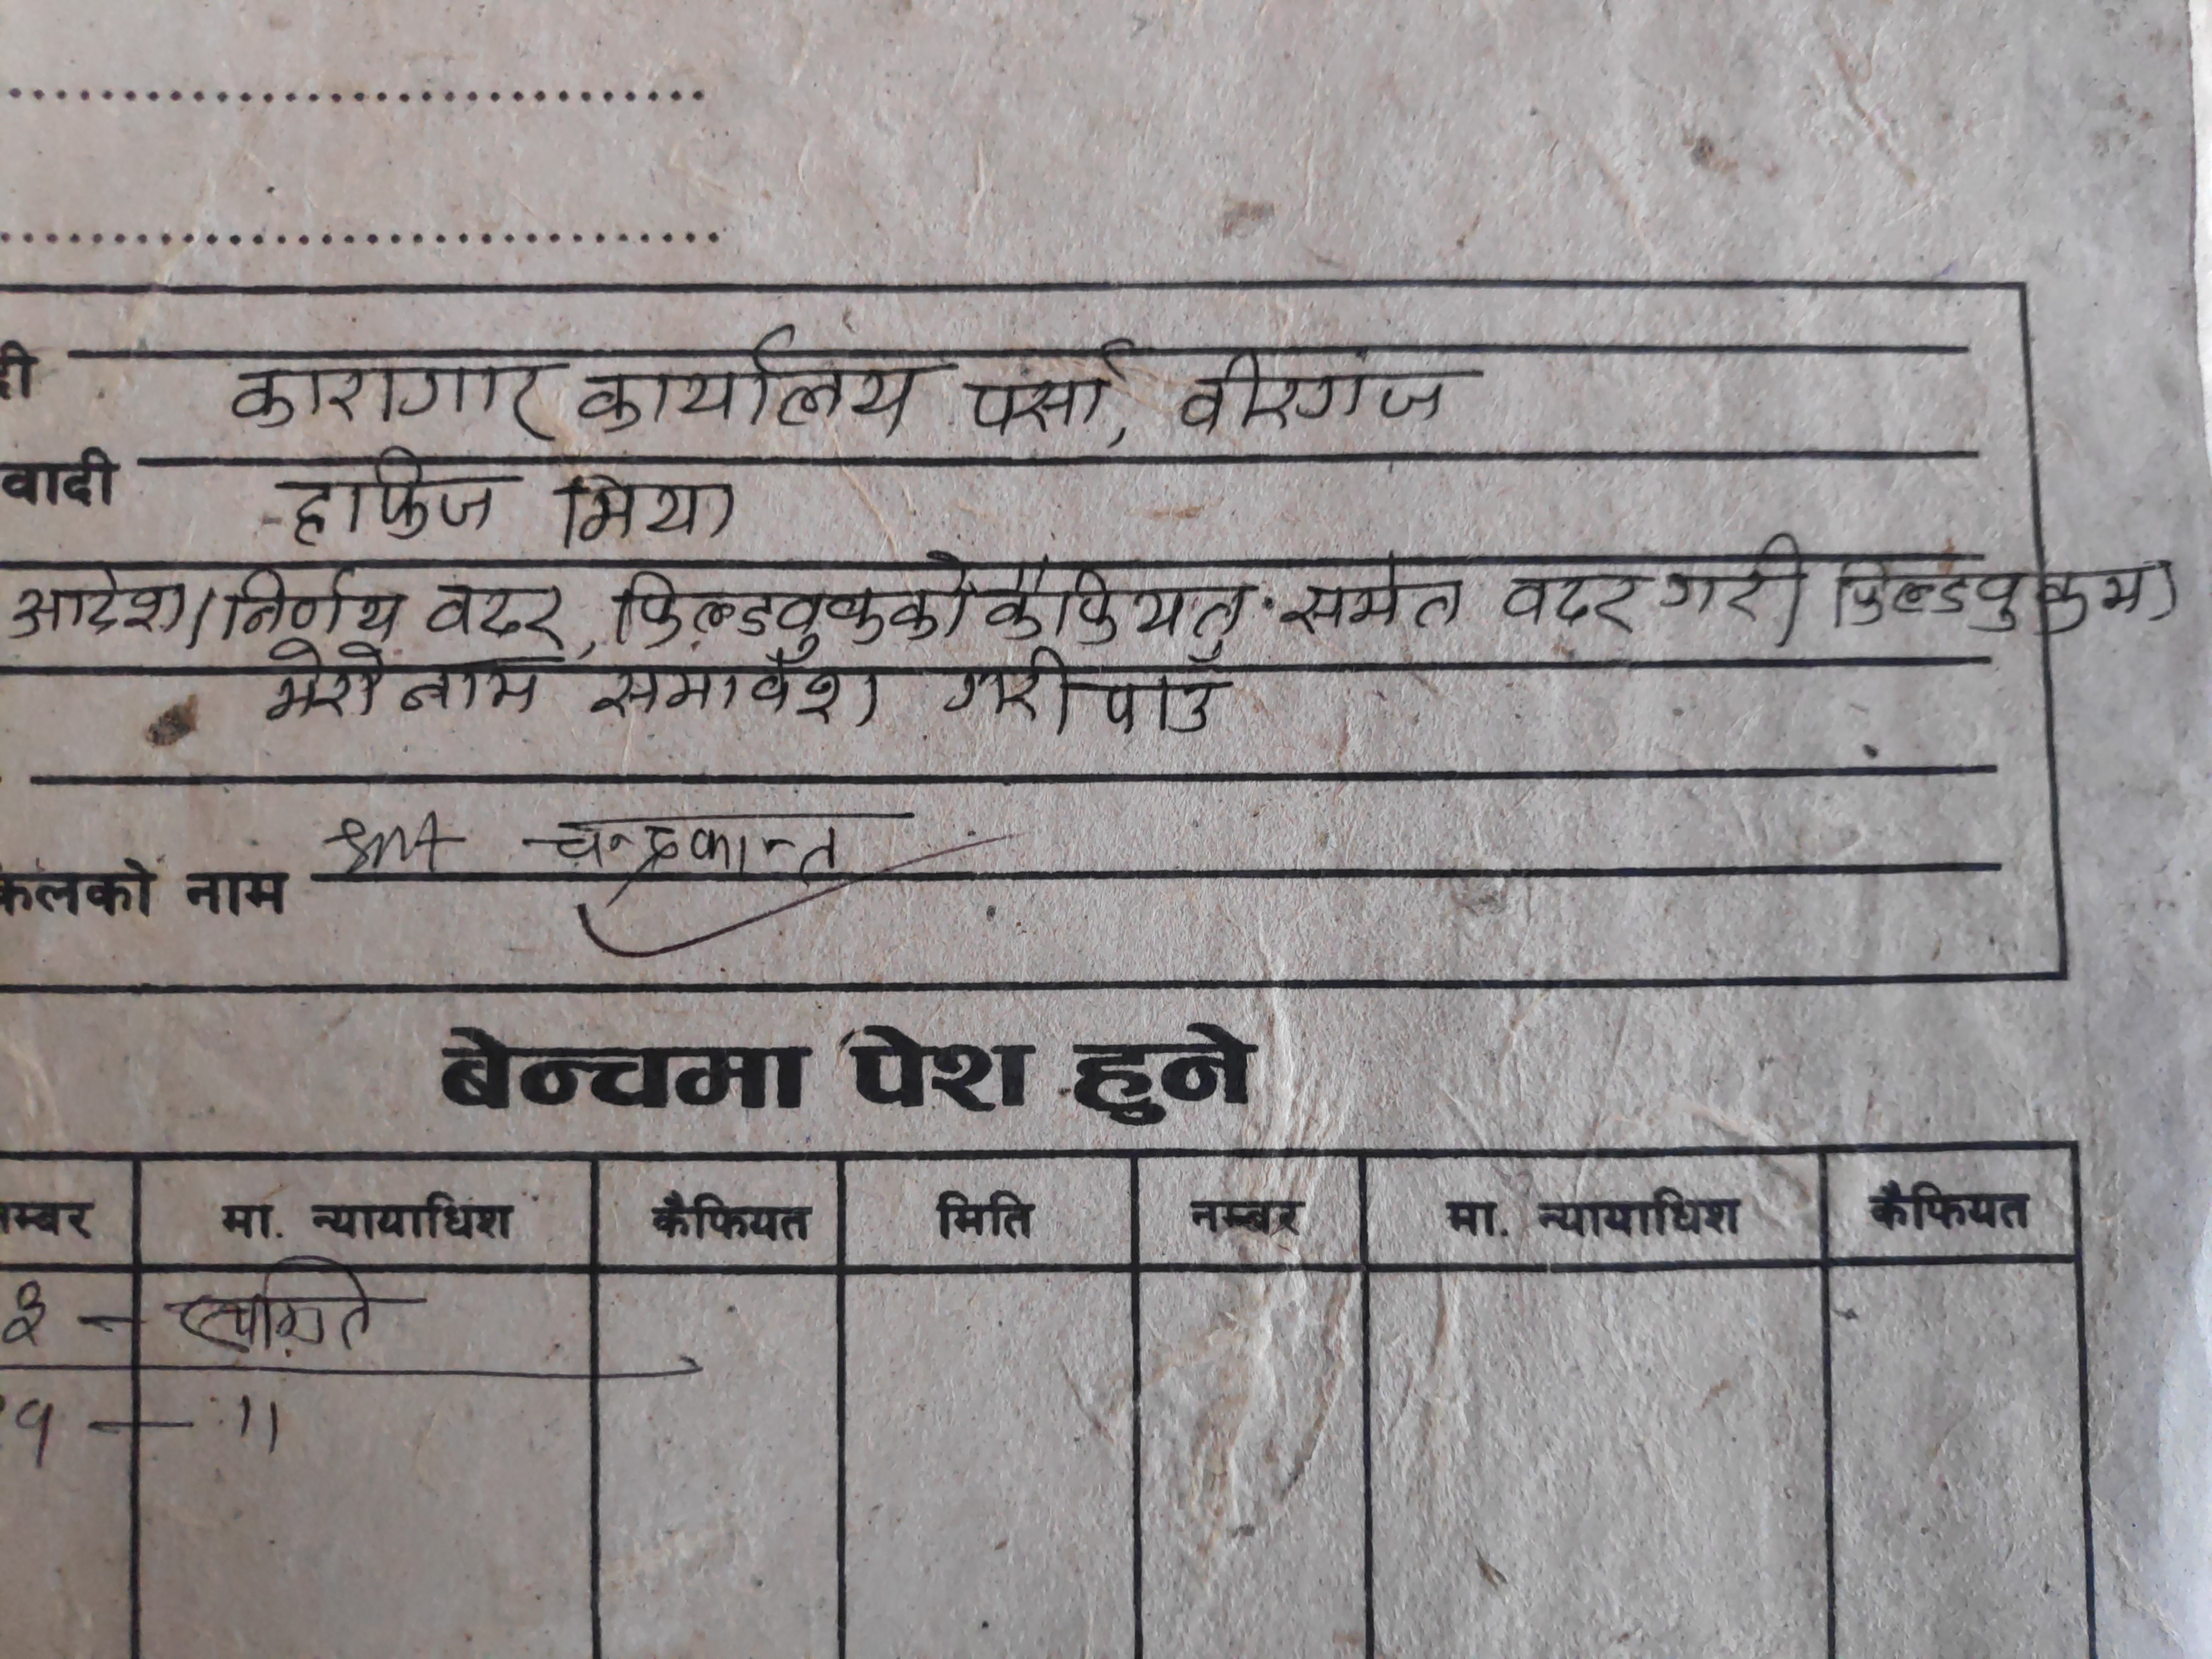text: (566, 322, 932, 446), (617, 568, 975, 657), (941, 638, 1224, 744), (221, 361, 559, 448), (1170, 343, 1467, 439), (979, 568, 1261, 659), (521, 807, 857, 878), (1824, 566, 2153, 638), (158, 1265, 404, 1359), (589, 659, 850, 734), (268, 479, 503, 547), (10, 572, 193, 657), (1275, 572, 1470, 647), (221, 566, 411, 640), (547, 467, 718, 547), (1500, 563, 1644, 648), (1656, 563, 1818, 638), (256, 640, 388, 730), (421, 577, 573, 648), (953, 371, 1113, 437), (397, 659, 554, 720), (7, 1389, 73, 1480), (2, 1279, 59, 1351)
